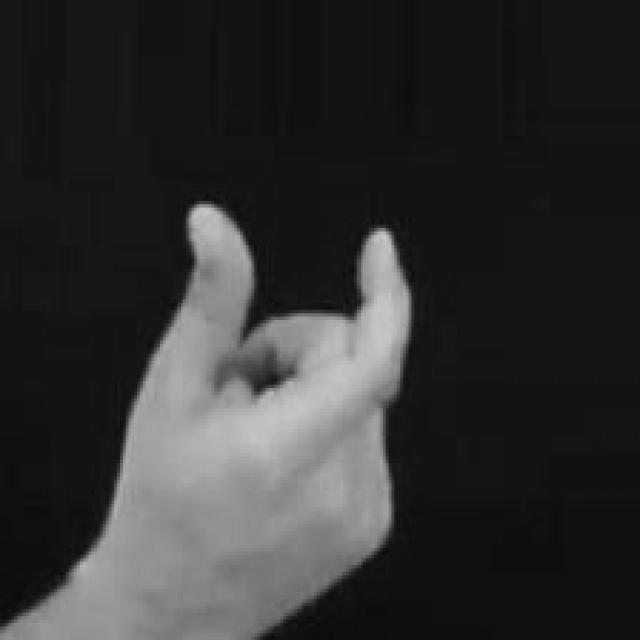U: (86, 183, 417, 640)
